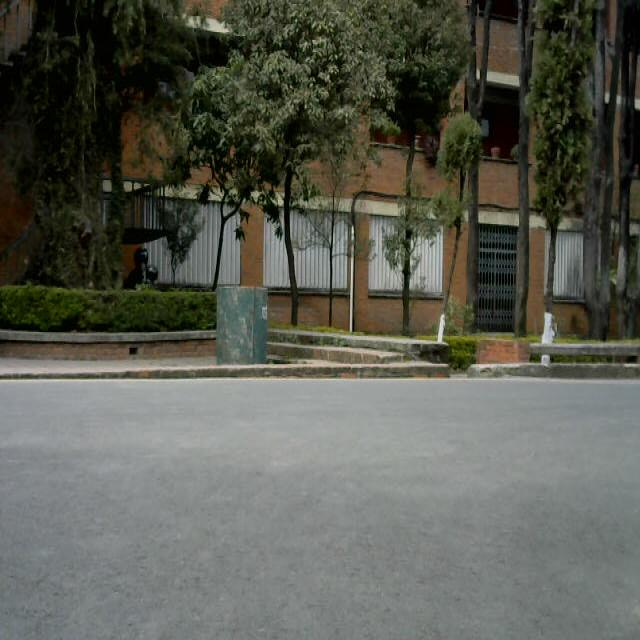Road: (3, 374, 640, 638)
dustbin: (214, 276, 289, 374)
trees: (374, 0, 524, 372), (203, 0, 368, 303), (24, 0, 185, 305), (529, 0, 611, 350)
